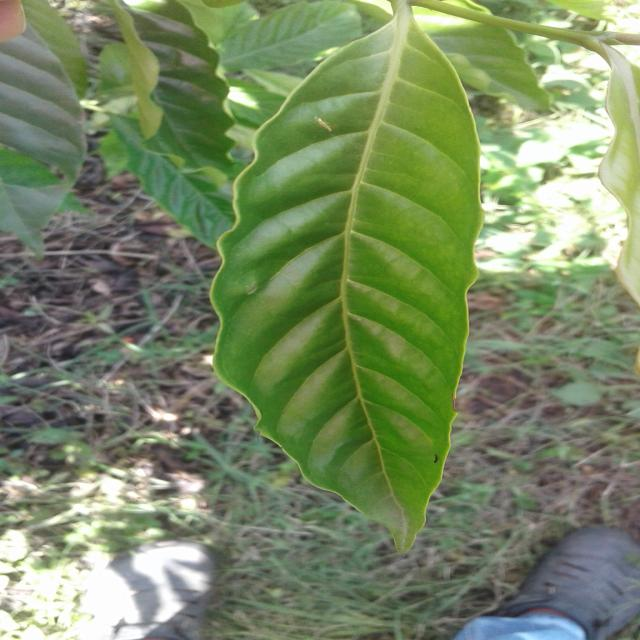Sanas: (209, 0, 481, 552)
